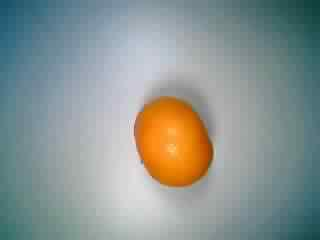orange: (125, 94, 220, 188)
